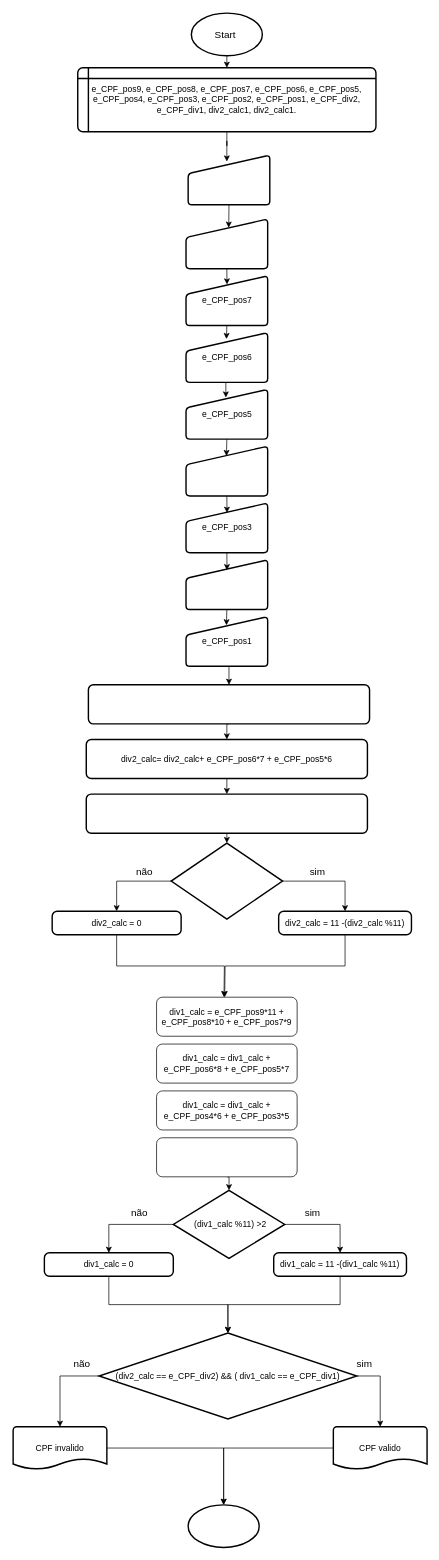
The diagram is 439 pixels wide and 1560 high, and some of its shapes have lost their labels. Each missing label, with the box of its shape:
(div2_calc %11) >2: (170, 842, 283, 919)
div1_calc = div1_calc + div2_calc *2: (156, 1137, 297, 1177)
div2_calc= div2_calc+ e_CPF_pos2*3 + e_CPF_pos1*2: (85, 793, 368, 834)
div2_calc= e_CPF_pos9*10 + e_CPF_pos8*9 + e_CPF_pos7*8: (87, 684, 370, 724)
e_CPF_pos2: (185, 559, 268, 610)
e_CPF_pos4: (185, 445, 268, 496)
e_CPF_pos8: (185, 218, 268, 269)
e_CPF_pos9: (187, 154, 270, 205)
fim: (187, 1504, 260, 1548)
